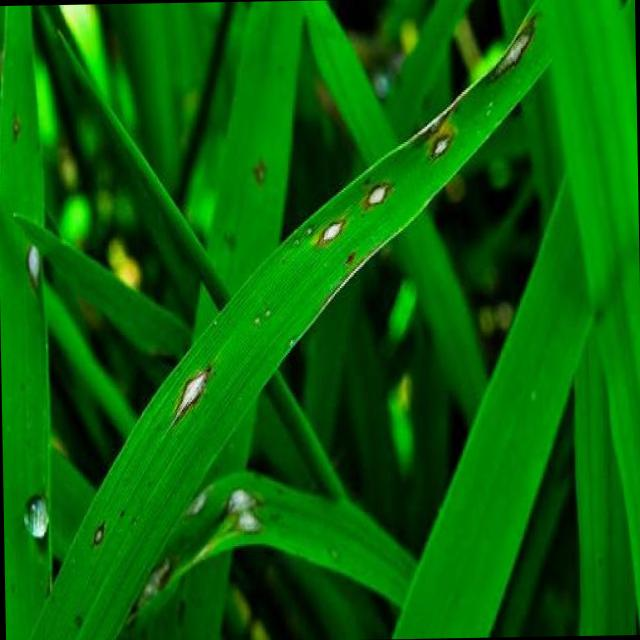Rice_Blast: (482, 14, 542, 72), (162, 354, 216, 412), (18, 230, 51, 303), (412, 118, 458, 157), (316, 206, 350, 248), (361, 164, 392, 207)
